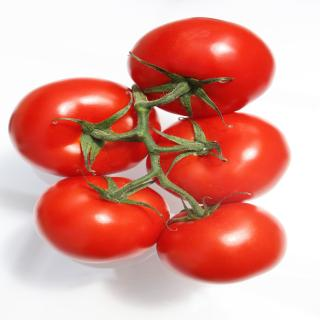Tomat: (9, 77, 161, 179), (128, 18, 277, 121), (147, 113, 293, 207), (34, 171, 171, 265), (157, 193, 289, 286)
